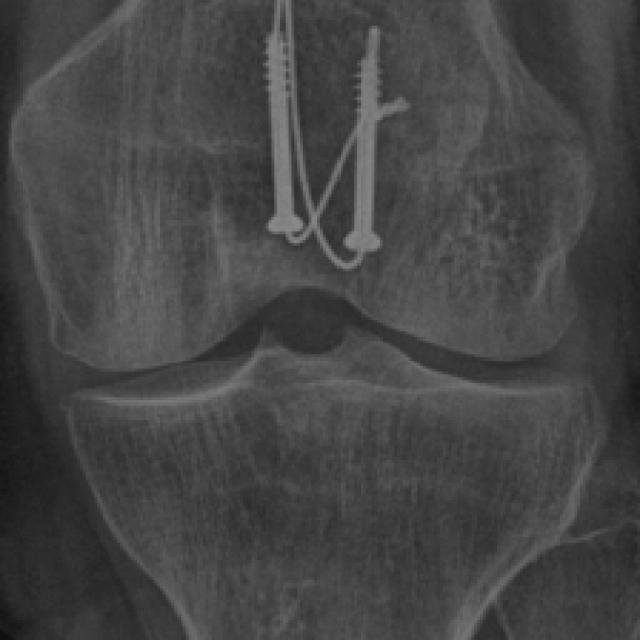femur: (7, 0, 594, 370)
tibia: (57, 320, 612, 640)
